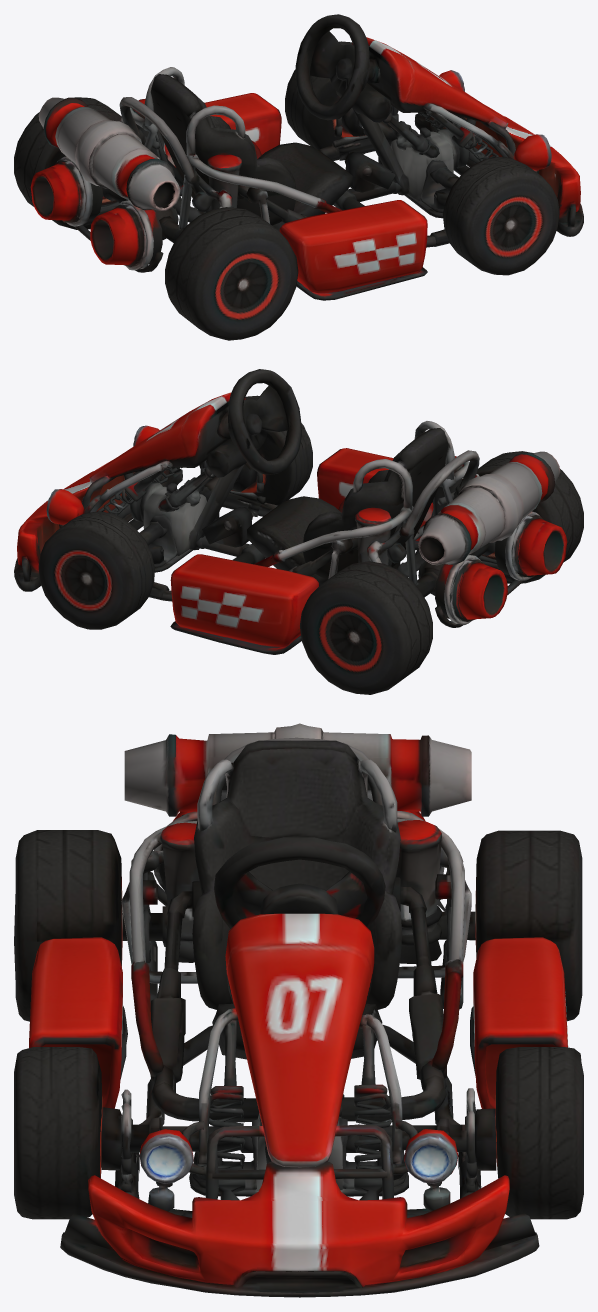
File: CurrentBlenderCar.fbx
The picture shows the model from 3 angles, top to bottom: view 1: azimuth 30°, elevation 25°; view 2: azimuth 150°, elevation 25°; view 3: azimuth 270°, elevation 25°; orthographic projection. The views are drawn at different scales.
Parts seen in each view (by area): view 1: CarBody, Wheel_BR, Wheel_FR, SteeringWheel, Wheel_BL, Wheel_FL; view 2: CarBody, Wheel_BL, Wheel_FL, SteeringWheel, Wheel_BR, Wheel_FR; view 3: CarBody, Wheel_FR, Wheel_FL, Wheel_BL, Wheel_BR, SteeringWheel.
Boxes of the visible parts, x1,y1,x2,y2 form: CarBody: [30, 37, 583, 300]; Wheel_BR: [165, 207, 298, 340]; Wheel_FR: [442, 157, 559, 275]; SteeringWheel: [295, 14, 369, 120]; Wheel_BL: [14, 97, 121, 229]; Wheel_FL: [285, 41, 398, 154]; CarBody: [14, 392, 567, 654]; Wheel_BL: [300, 561, 432, 694]; Wheel_FL: [38, 511, 154, 629]; SteeringWheel: [228, 369, 301, 474]; Wheel_BR: [476, 451, 583, 583]; Wheel_FR: [199, 395, 312, 505]; CarBody: [29, 723, 568, 1297]; Wheel_FR: [14, 1047, 102, 1219]; Wheel_FL: [495, 1047, 583, 1219]; Wheel_BL: [475, 830, 582, 1021]; Wheel_BR: [14, 830, 122, 1021]; SteeringWheel: [214, 837, 385, 928].
Bounding box in the file's own units: 99.8 × 41.6 × 67.38.
Materials: 1 (1 with a texture image).
